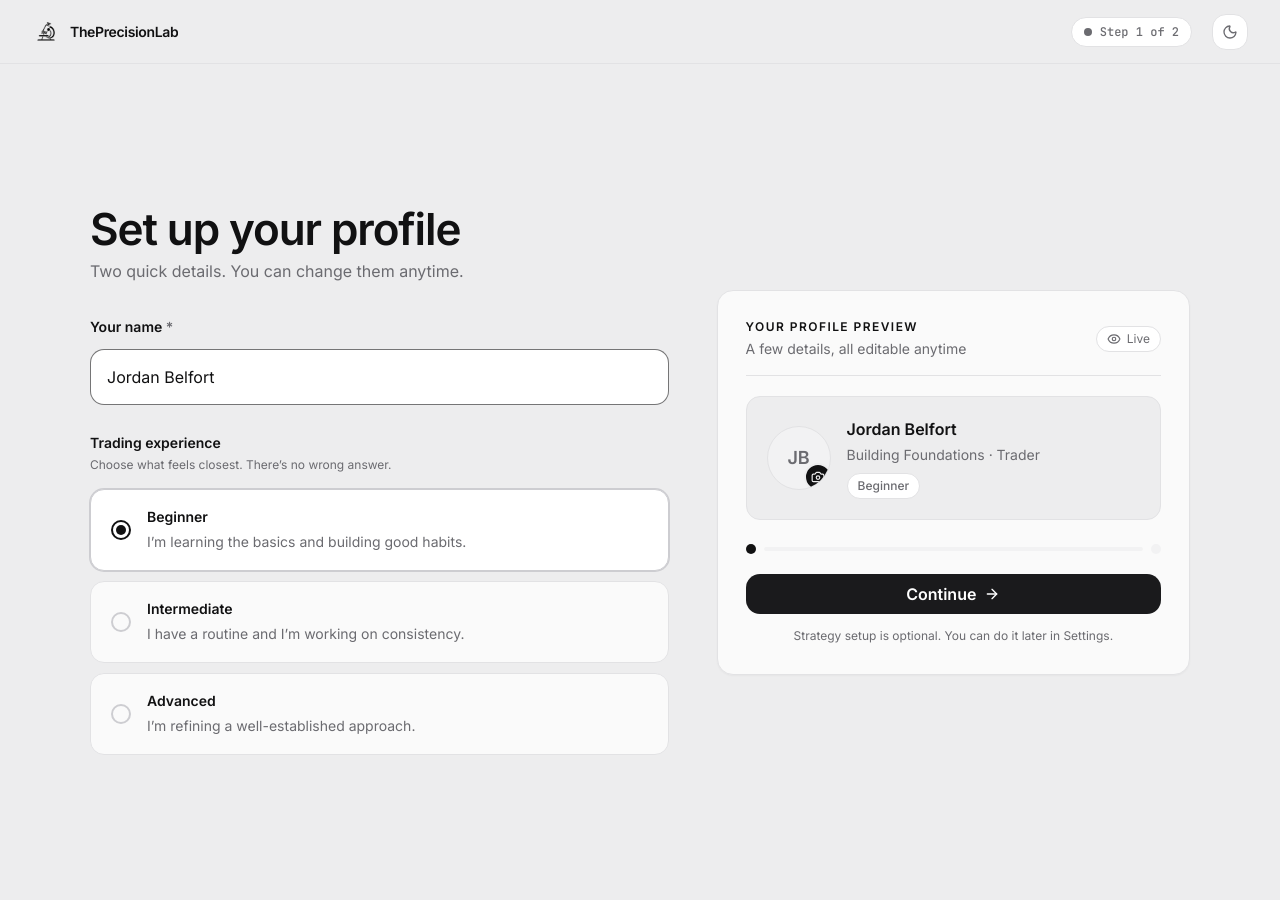
Test: FirstRunOnboardingPage › allows navigating back from Step 2 (Strategy) to Step 1 (Profile)
Expected: the heading "Set up your profile" is shown, [90,202,460,256]
What coordinates should you click on to do the following:
click the button "Continue"
I would click on:
 (953, 594)
Its box is [746,574,1161,614].
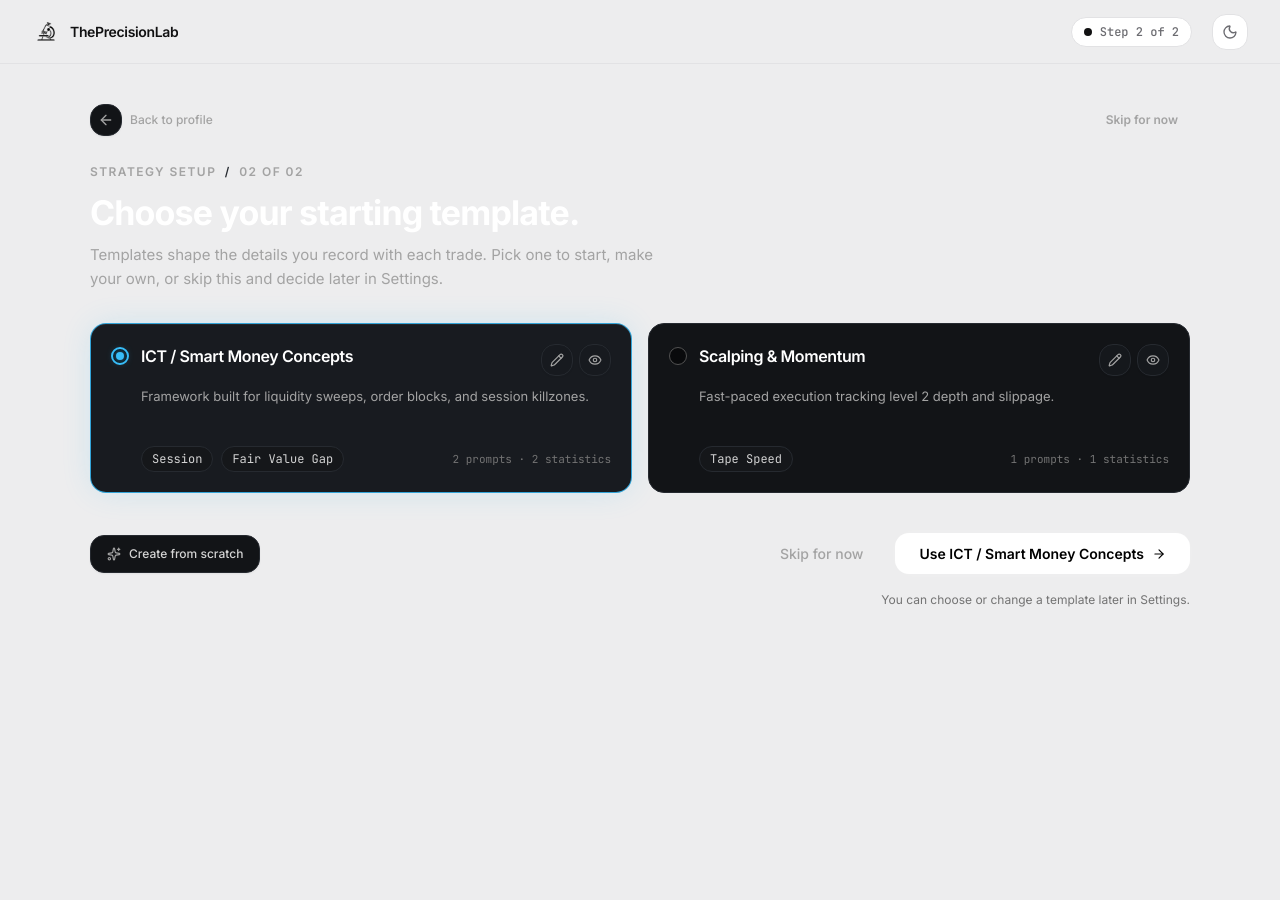
What coordinates should you click on to do the following:
click the button "Back to profile"
I would click on:
 (151, 120)
Its box is [90,104,213,136].
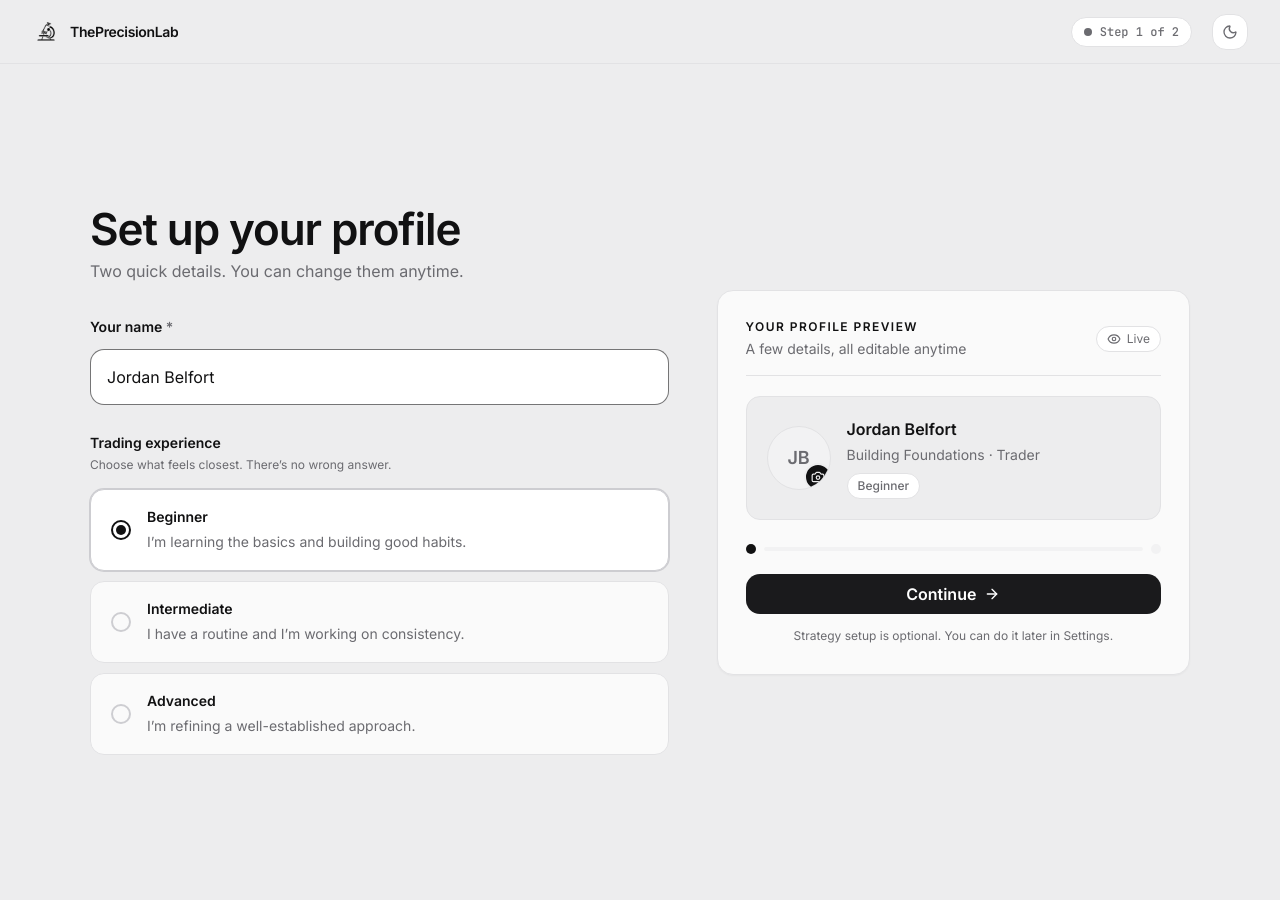
Expected: the heading "Set up your profile" is shown, [90,202,460,256]
